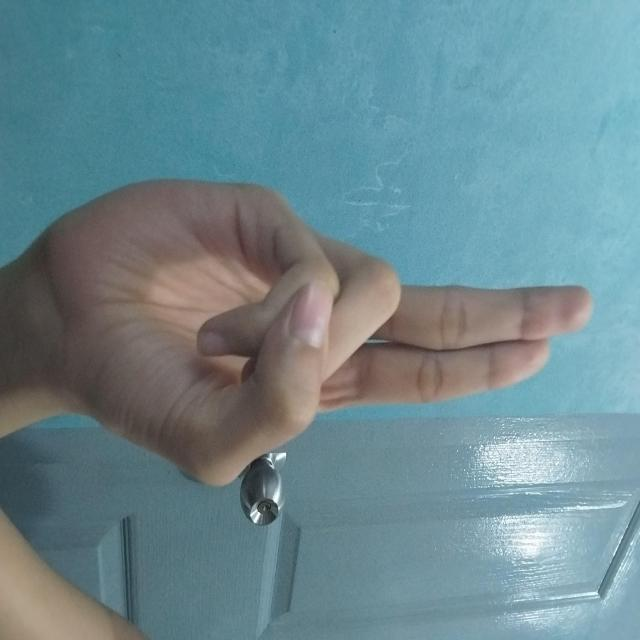U: (178, 46, 488, 598)
